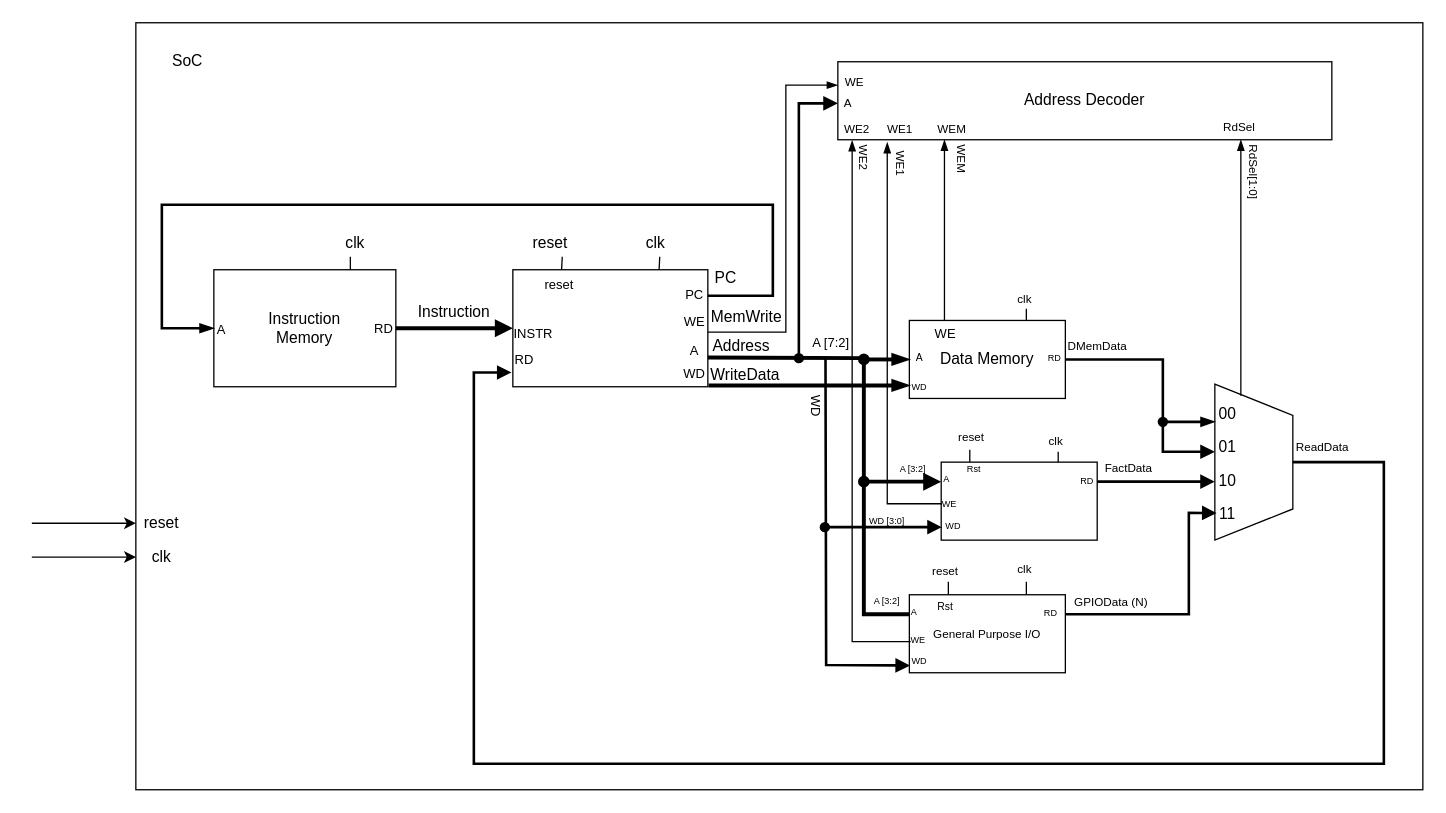
Some shapes in this 1446 by 813 pixel diagram are drawn without their labels. Here are the shapes that lost their labels. From the top down, the box of each, then its label:
(512, 268, 708, 387): MIPS Processor
(940, 461, 1097, 540): Factorial Accelerator
